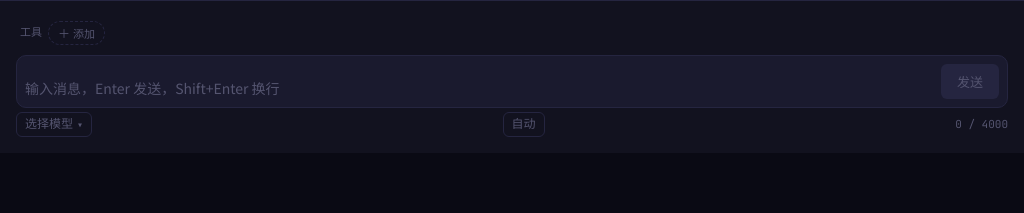
Test: MessageInput › 输入以 / 开头时显示 /plan 提示条（AC-N04）
In the text box with placeholder "输入消息，Enter 发送，Shift+Enter 换行": (479, 88) [25,77,933,99], type "/plan 帮我做个计划"
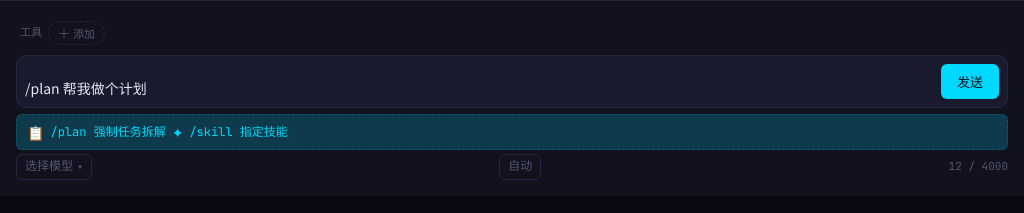
Check: the element showing "📋 /plan 强制任务拆解 ✦ /skill 指定技能" is shown, box [16,114,1008,150]
